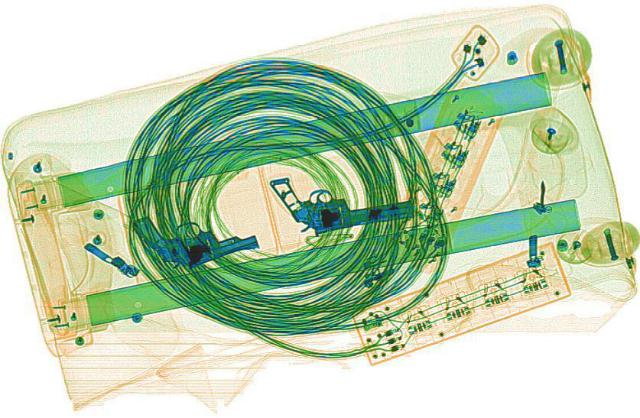Gun: (264, 159, 420, 235), (124, 193, 264, 271)
